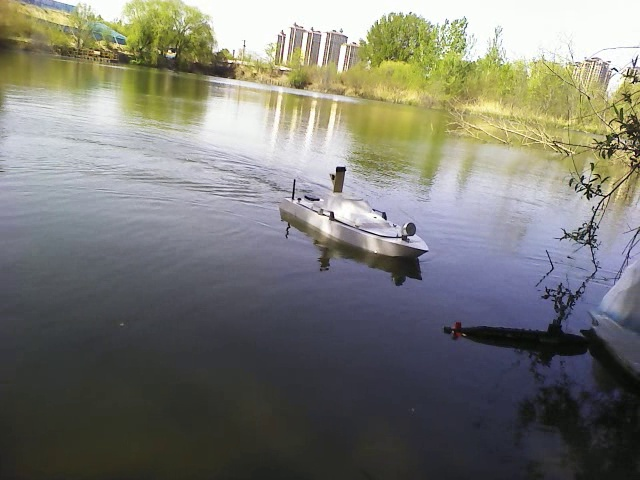boat: (278, 187, 434, 263)
submarine: (438, 318, 592, 353)
